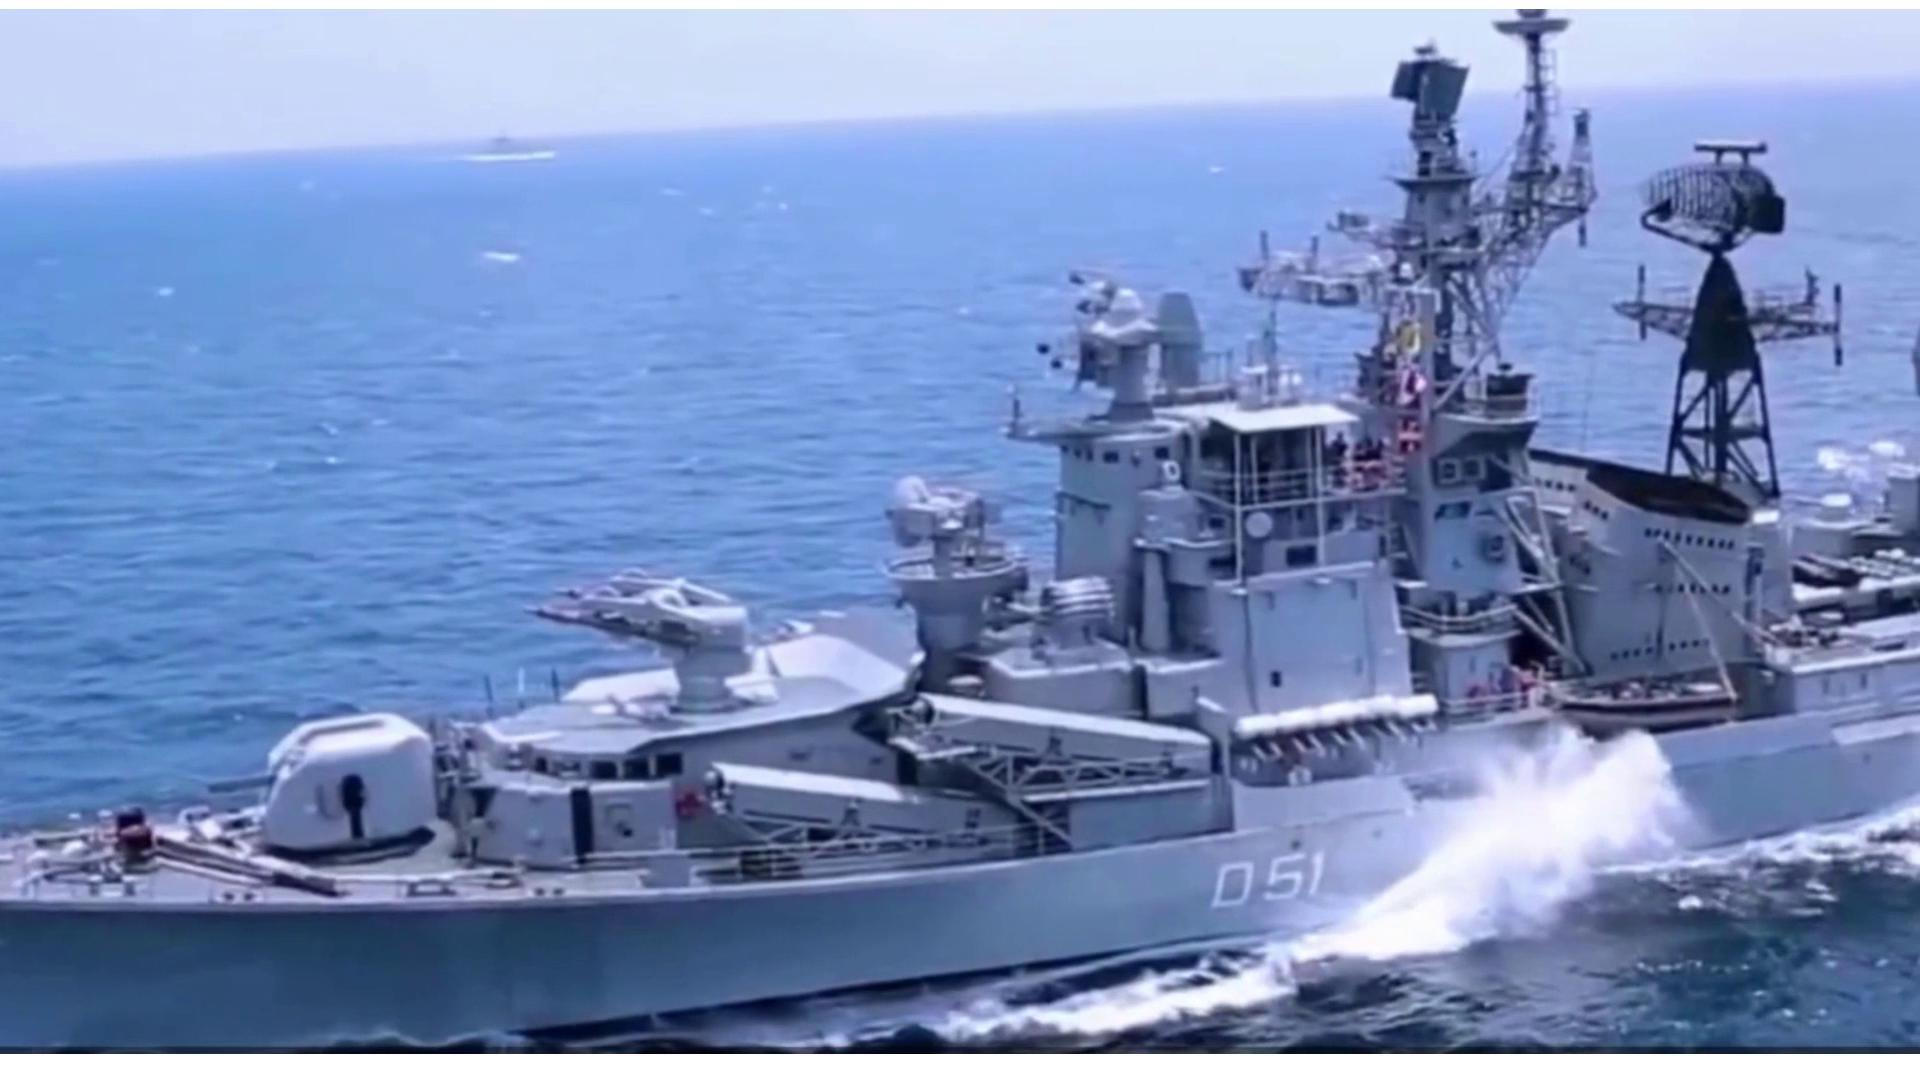OCR: (1195, 840, 1333, 924)
